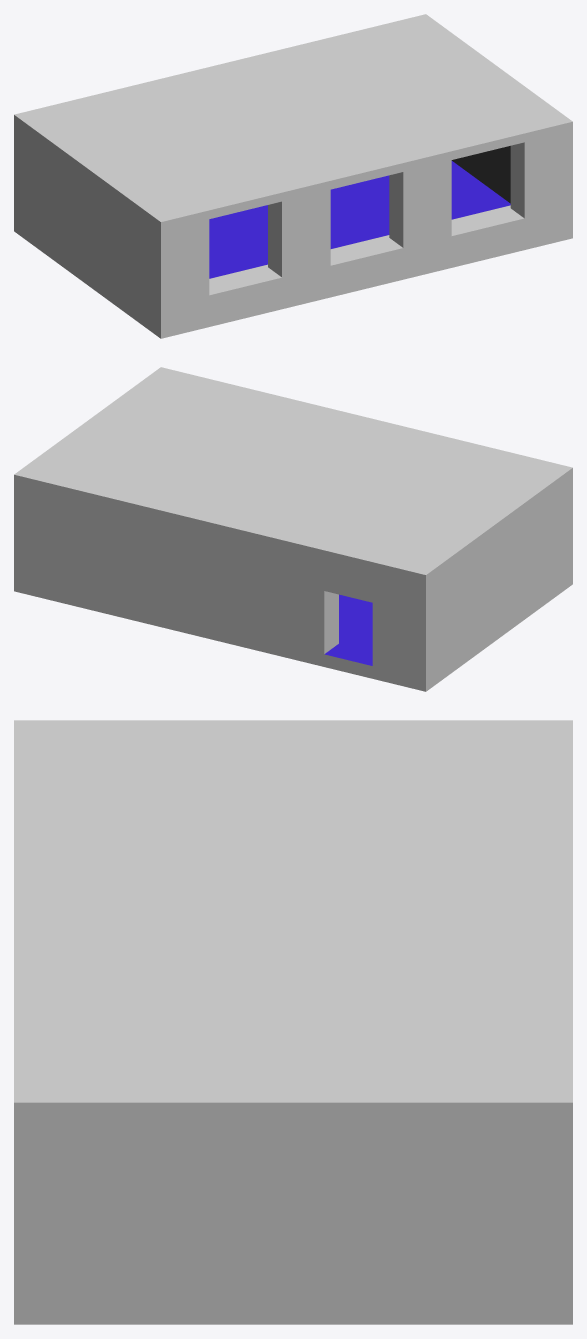
The model's file is Class1.fbx.
The picture shows the model from 3 angles, top to bottom: view 1: azimuth 30°, elevation 25°; view 2: azimuth 150°, elevation 25°; view 3: azimuth 270°, elevation 25°; orthographic projection. The views are drawn at different scales.
Visible parts, largest first — view 1: 316.005; view 2: 316.005; view 3: 316.005.
Boxes of the visible parts, <box> form: 316.005: <box>14,14,572,338</box>; 316.005: <box>14,367,572,691</box>; 316.005: <box>14,720,572,1324</box>.
Size of the model in its own units: 1700 by 460 by 1050.
